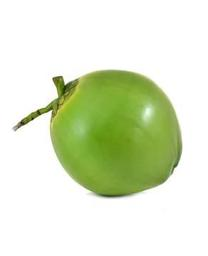coconut: (50, 70, 182, 197)
